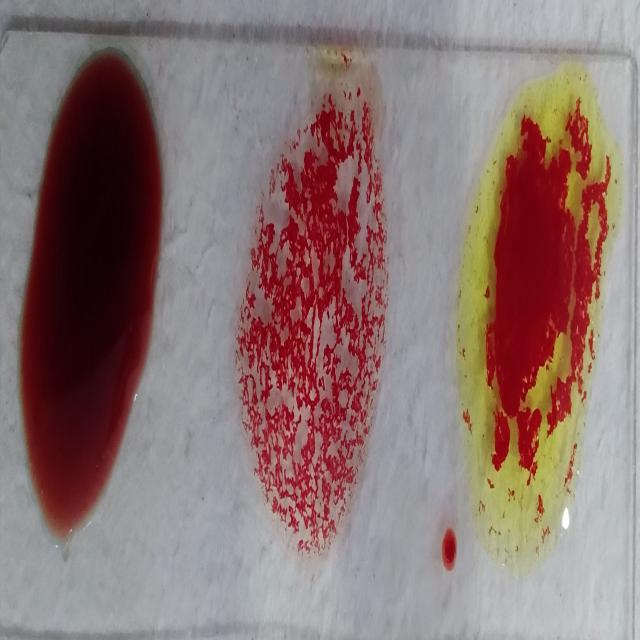B: (460, 67, 610, 583)
D: (238, 71, 386, 558)
